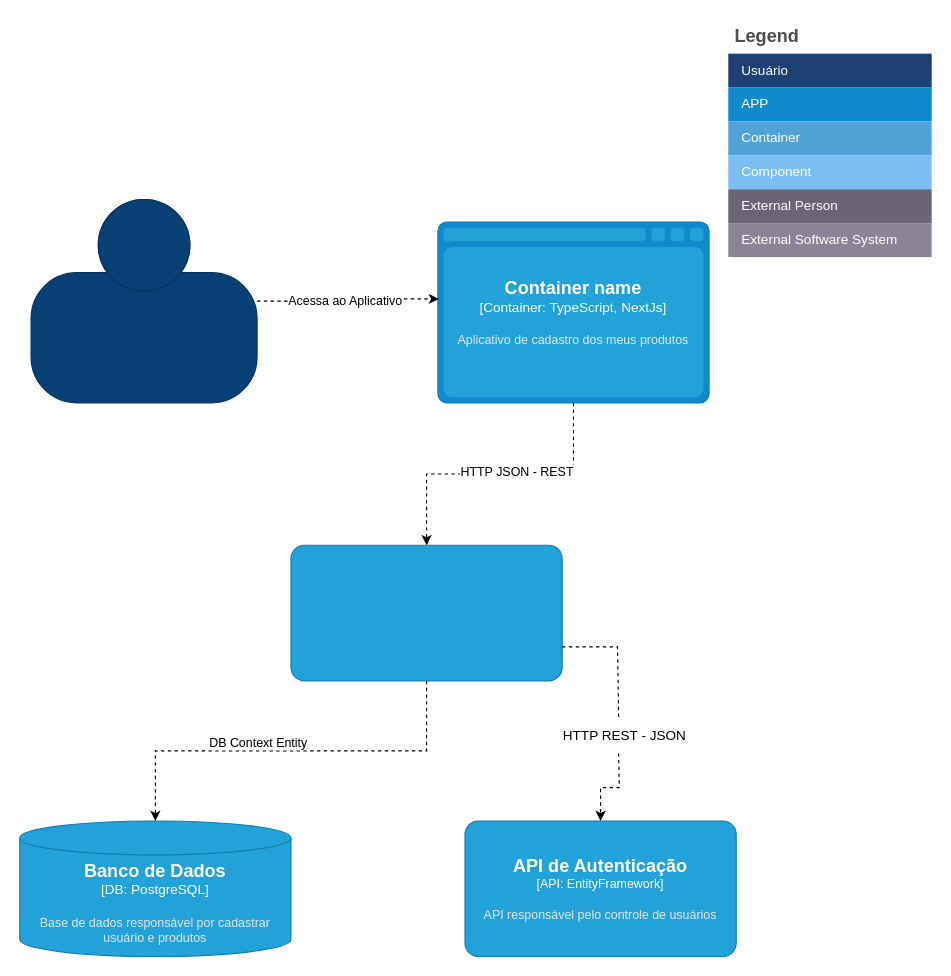
This 951x976 diagram has some shape labels left out. The centre of each missing label's shape, as x and y in pixels:
"Admin [Usuário] Usuário com acesso completo para gerenciar o estoque" belongs at point 143,300.
"API de Estoque [Container: EntityFramework, C#] API de interface do Back-end" belongs at point 426,612.
